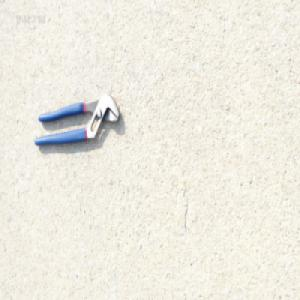Pliers: (32, 92, 120, 148)
